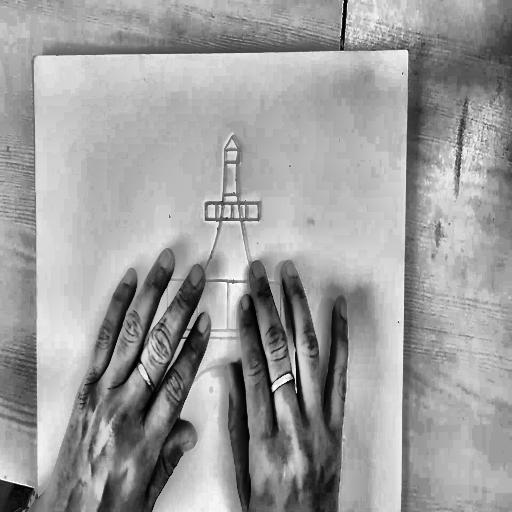eiffel-tower: (106, 127, 351, 450)
top_left: (32, 55, 37, 62)
top_right: (406, 47, 411, 55)
